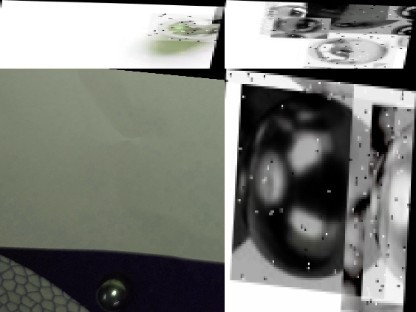ironball: (230, 83, 394, 294), (341, 80, 415, 312), (224, 68, 415, 100), (301, 2, 415, 34), (304, 31, 398, 68), (145, 12, 222, 40), (270, 15, 330, 38), (96, 276, 131, 308), (260, 0, 314, 19), (393, 29, 411, 47), (210, 4, 224, 22)
